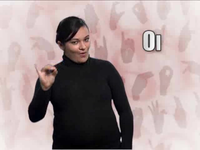oi: (32, 60, 58, 89)
